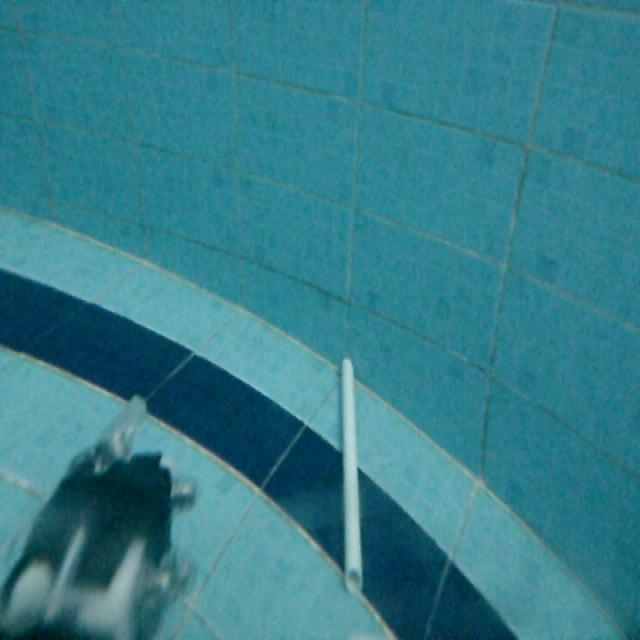Cube: (336, 351, 366, 593)
